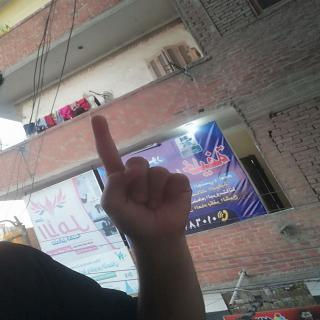BAA: (74, 112, 214, 252)
